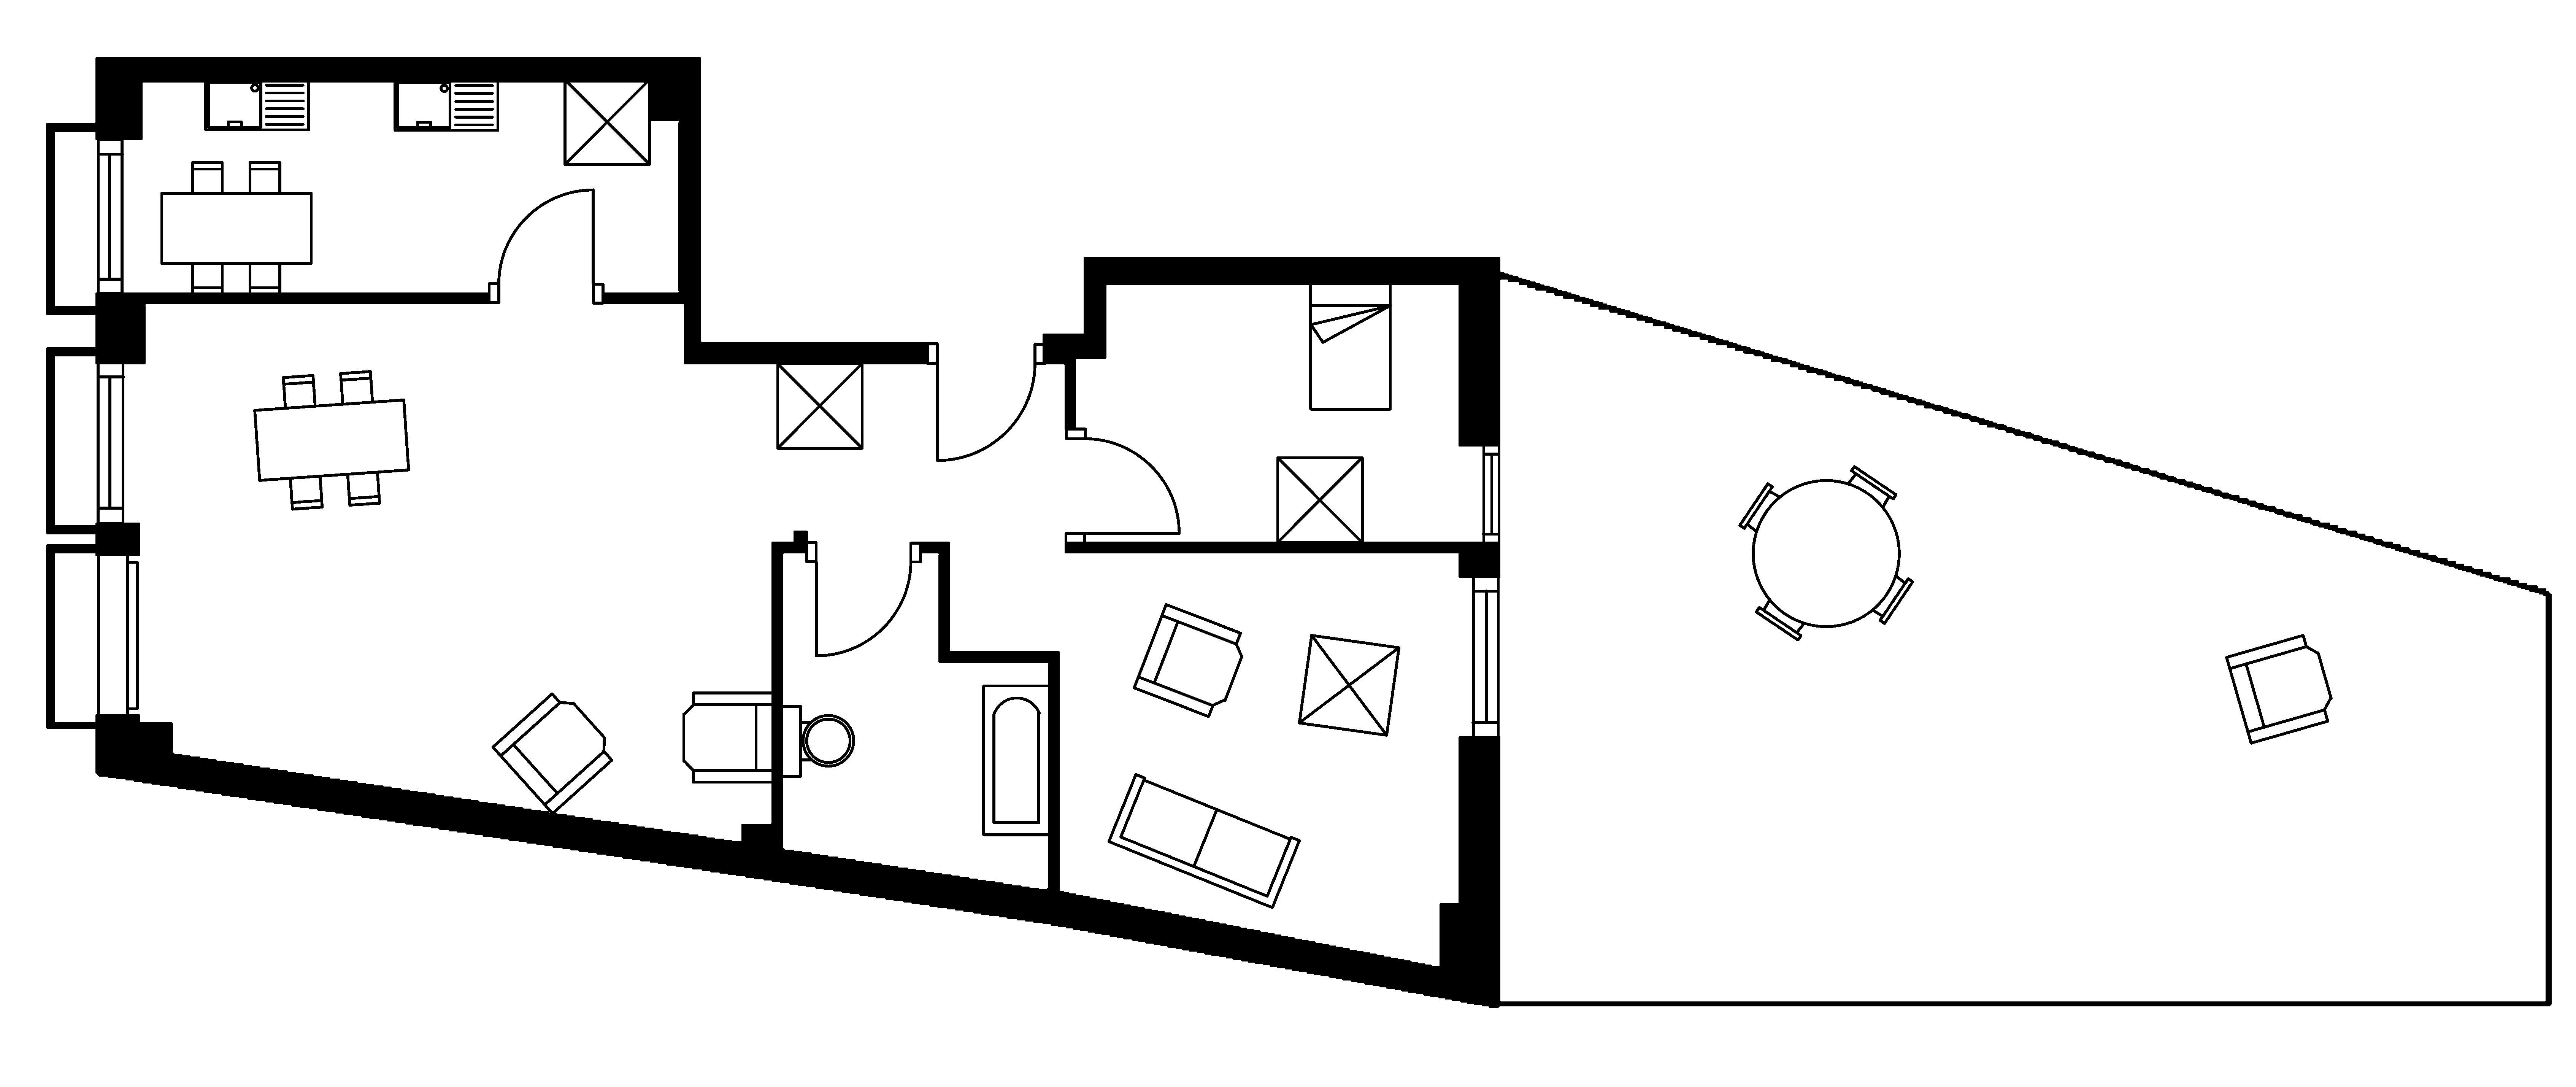armchair: (491, 691, 613, 816), (1132, 602, 1244, 719), (2224, 633, 2333, 745), (682, 691, 774, 784)
bed: (1308, 281, 1391, 411)
coffee_table: (1296, 633, 1401, 737), (562, 77, 651, 166), (775, 362, 864, 451), (1275, 456, 1364, 544)
dining_table: (253, 370, 411, 511), (159, 160, 312, 296)
large_sink: (780, 704, 854, 778)
large_sofa: (1106, 773, 1301, 909)
round_table: (1738, 464, 1914, 641)
sink: (204, 77, 310, 132), (393, 77, 499, 132)
tub: (981, 684, 1051, 837)
